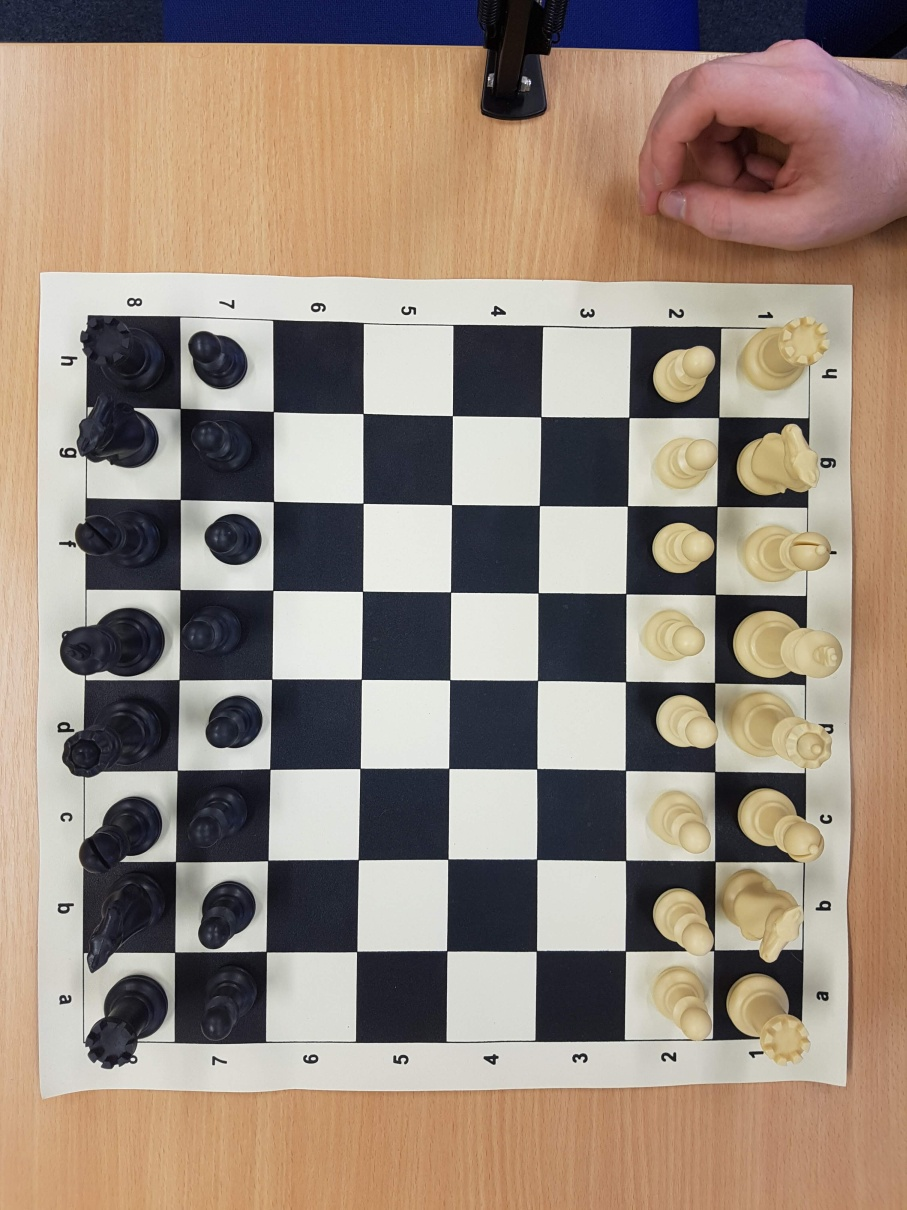chess_bishop: (738, 788, 825, 863), (80, 796, 161, 873), (743, 524, 831, 582), (74, 511, 161, 566)
chess_king: (732, 609, 842, 677), (62, 607, 165, 678)
chess_knight: (720, 869, 803, 963), (85, 876, 164, 973), (78, 394, 161, 472), (734, 423, 820, 496)
chess_pawn: (652, 965, 715, 1041), (198, 964, 258, 1042), (645, 789, 713, 855), (652, 886, 715, 956), (196, 881, 255, 950), (650, 344, 716, 404), (187, 788, 254, 846), (654, 693, 718, 750), (188, 330, 248, 389), (642, 609, 707, 662), (653, 436, 717, 489), (651, 522, 715, 575), (191, 420, 253, 474), (204, 695, 264, 749), (181, 606, 244, 655), (205, 513, 261, 566)
chess_queen: (728, 692, 833, 770), (63, 699, 163, 778)
chess_rook: (724, 971, 811, 1065), (86, 973, 168, 1067), (743, 316, 830, 392), (80, 316, 164, 391)
